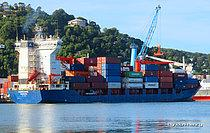Ship: (3, 3, 205, 108), (8, 32, 204, 108), (110, 3, 111, 23)
